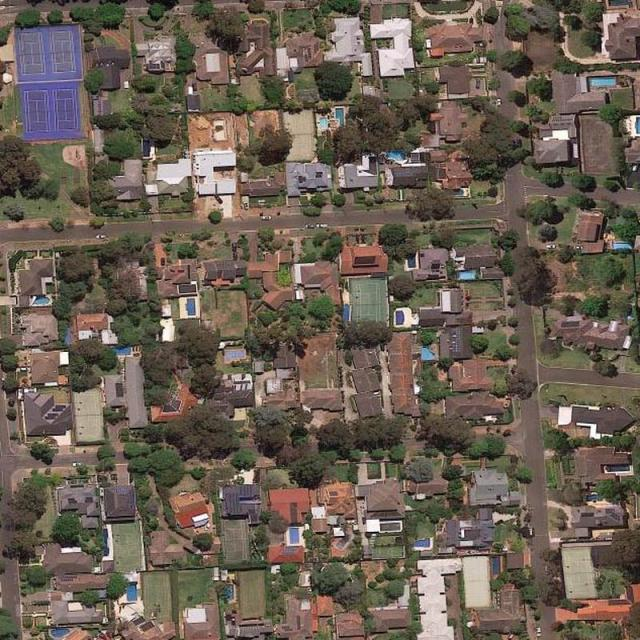vehicle: (19, 366, 29, 372), (536, 628, 541, 637), (95, 234, 106, 238), (315, 223, 326, 227), (243, 202, 248, 210), (546, 244, 555, 248), (72, 463, 81, 467), (260, 215, 271, 218), (306, 223, 314, 227), (574, 245, 582, 249), (529, 529, 533, 536), (498, 99, 502, 105)
